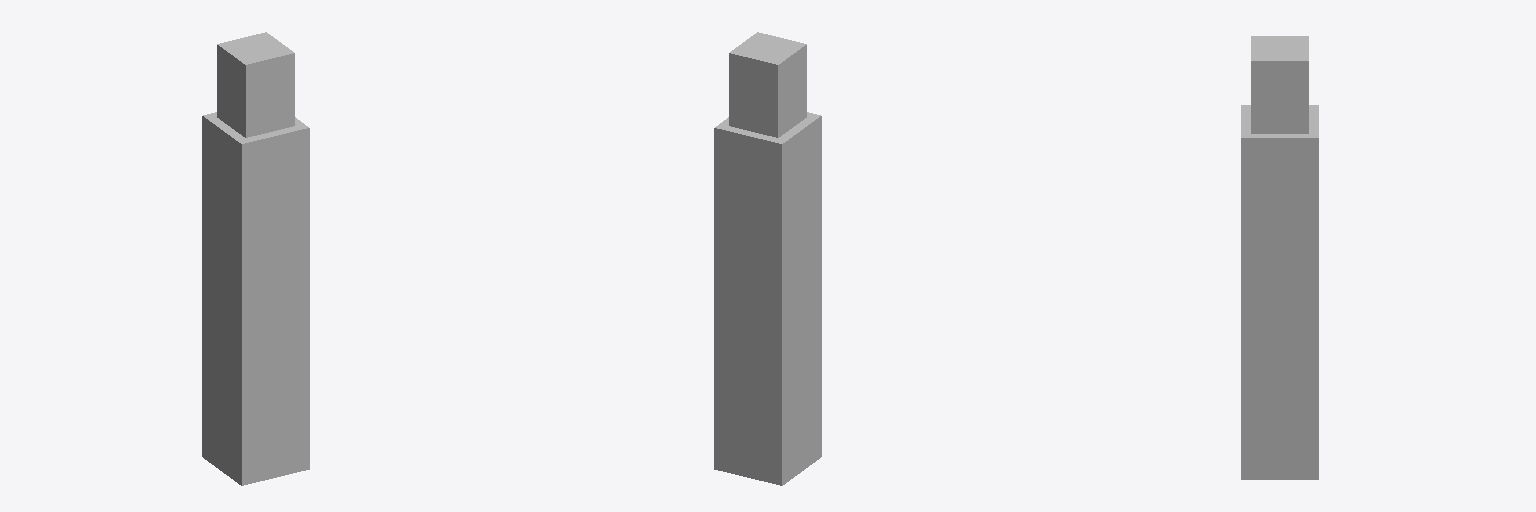
The model's file is crystal single.obj.
3 views of the same model, side by side, from view 1: azimuth 30°, elevation 25°; view 2: azimuth 150°, elevation 25°; view 3: azimuth 270°, elevation 25° (orthographic).
Visible parts, largest first — view 1: single_crystal; view 2: single_crystal; view 3: single_crystal.
Boxes of the visible parts, <box> form: single_crystal: <box>202,32,309,485</box>; single_crystal: <box>714,32,821,485</box>; single_crystal: <box>1241,36,1318,479</box>.
Size of the model in its own units: 0.4904 by 2.86 by 0.4904.